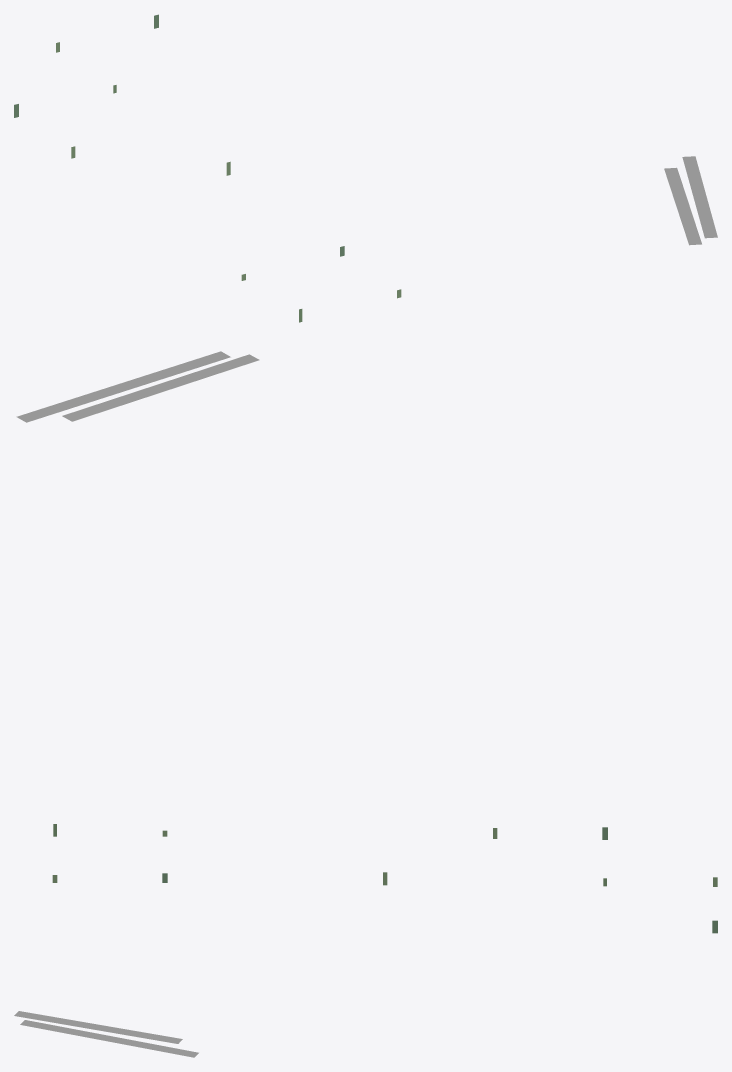
3 views of the same model, one above another, from view 1: azimuth 30°, elevation 25°; view 2: azimuth 150°, elevation 25°; view 3: azimuth 270°, elevation 25° (orthographic). The views are drawn at different scales.
Size of the model in its own units: 286 by 9.9 by 384.
